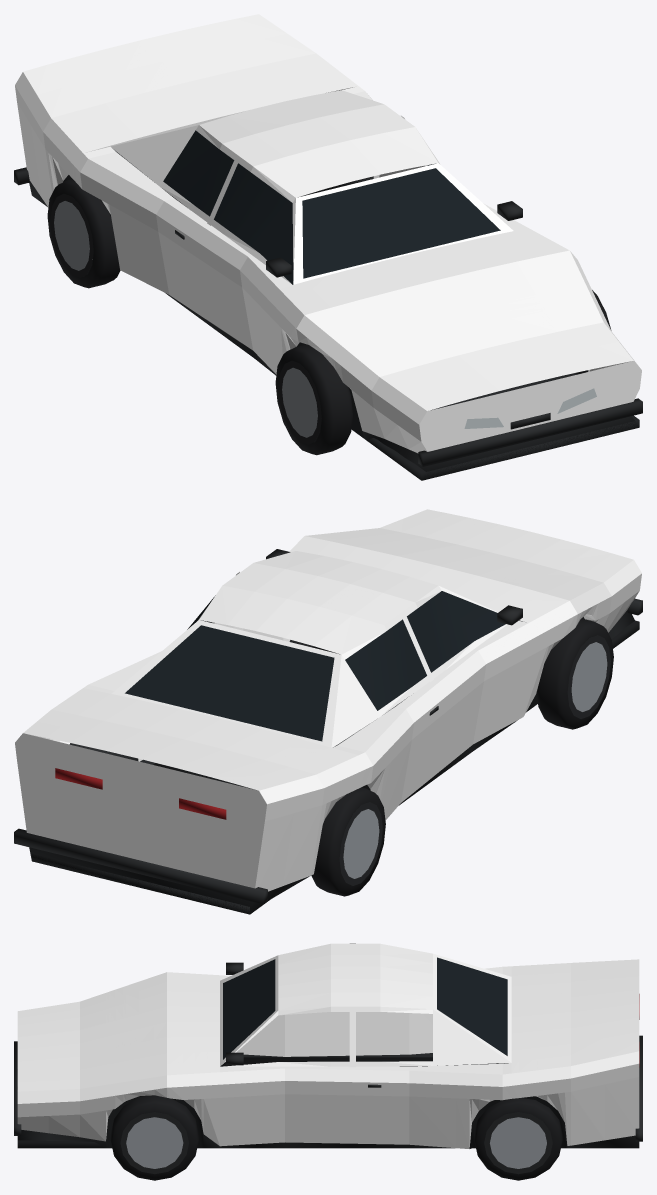
Rendered from corsalto_diadema.glb.
3 renders of one model, top to bottom at view 1: azimuth 30°, elevation 25°; view 2: azimuth 150°, elevation 25°; view 3: azimuth 270°, elevation 25°, orthographic. The views are drawn at different scales.
Parts seen in each view (by area): view 1: Body_Paint, Body_Details, Mount_FrontLeft_Wheel_Details, Mount_RearLeft_Wheel_Details; view 2: Body_Paint, Body_Details, Mount_FrontLeft_Wheel_Details, Mount_RearLeft_Wheel_Details; view 3: Body_Paint, Body_Details, Mount_FrontRight_Wheel_Details, Mount_RearRight_Wheel_Details.
Boxes of the visible parts, box(x1,y1,x2,y2) form: Body_Paint: box(15, 14, 641, 453); Body_Details: box(14, 130, 642, 480); Mount_FrontLeft_Wheel_Details: box(275, 344, 352, 455); Mount_RearLeft_Wheel_Details: box(47, 179, 120, 288); Body_Paint: box(15, 509, 641, 891); Body_Details: box(14, 549, 642, 914); Mount_FrontLeft_Wheel_Details: box(536, 618, 613, 729); Mount_RearLeft_Wheel_Details: box(311, 787, 385, 896); Body_Paint: box(17, 943, 639, 1149); Body_Details: box(14, 957, 642, 1148); Mount_FrontRight_Wheel_Details: box(110, 1095, 198, 1180); Mount_RearRight_Wheel_Details: box(474, 1098, 562, 1180).
Size of the model in its own units: 1.99 by 1.25 by 4.64.
2 materials, 1 textured.
